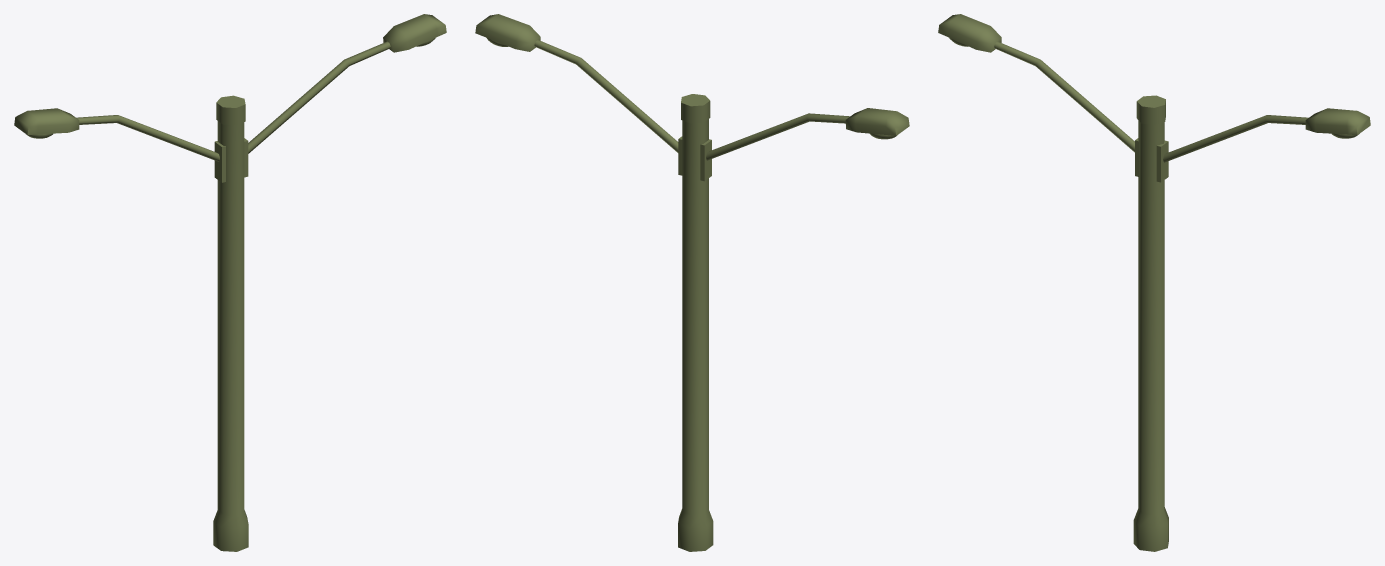
File: Street_Light.fbx
3 views of the same model, side by side, from view 1: azimuth 30°, elevation 25°; view 2: azimuth 150°, elevation 25°; view 3: azimuth 330°, elevation 25° (orthographic).
Parts seen in each view (by area): view 1: Street_Light; view 2: Street_Light; view 3: Street_Light.
Boxes of the visible parts, left/top/right/bottom form: Street_Light: left=14, top=14, right=446, bottom=551; Street_Light: left=475, top=14, right=909, bottom=551; Street_Light: left=938, top=14, right=1370, bottom=551.
Size of the model in its own units: 428 by 465 by 31.52.
